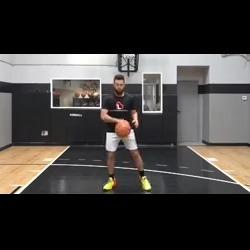BasketBall: (113, 118, 131, 137)
Player: (98, 73, 153, 193)
